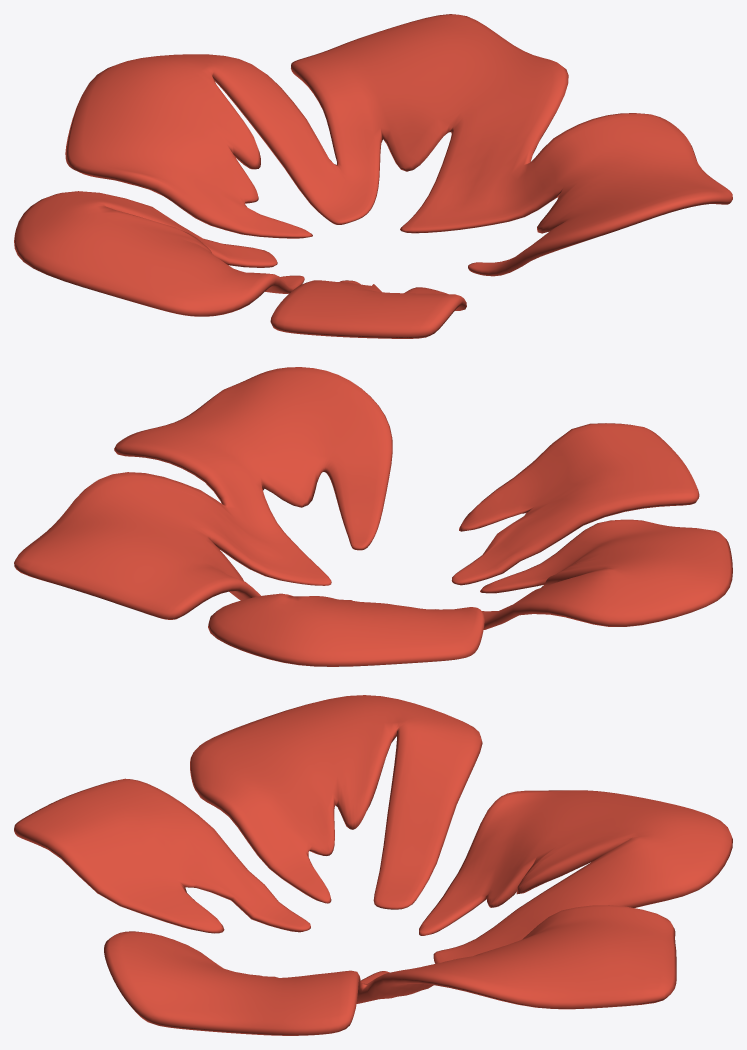
The model's file is red_flower.fbx.
3 views of the same model, one above another, from view 1: azimuth 30°, elevation 25°; view 2: azimuth 150°, elevation 25°; view 3: azimuth 270°, elevation 25° (orthographic). The views are drawn at different scales.
Parts seen in each view (by area): view 1: fleur_01; view 2: fleur_01; view 3: fleur_01.
Boxes of the visible parts, x1=… form: fleur_01: x1=14, y1=14, x2=732, y2=338; fleur_01: x1=14, y1=367, x2=732, y2=666; fleur_01: x1=14, y1=695, x2=732, y2=1035.
Bounding box in the file's own units: 10.75 × 1.62 × 10.06.
